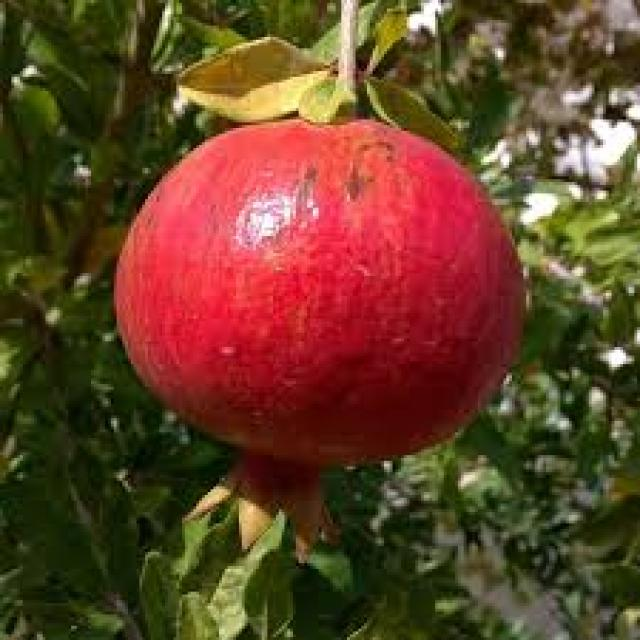Pomegranate: (110, 112, 526, 565)
